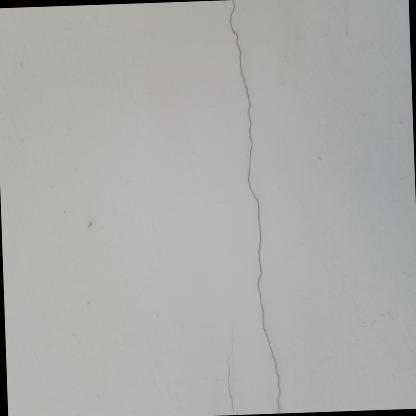crack: (229, 0, 279, 414), (226, 331, 233, 414), (235, 411, 238, 415)
